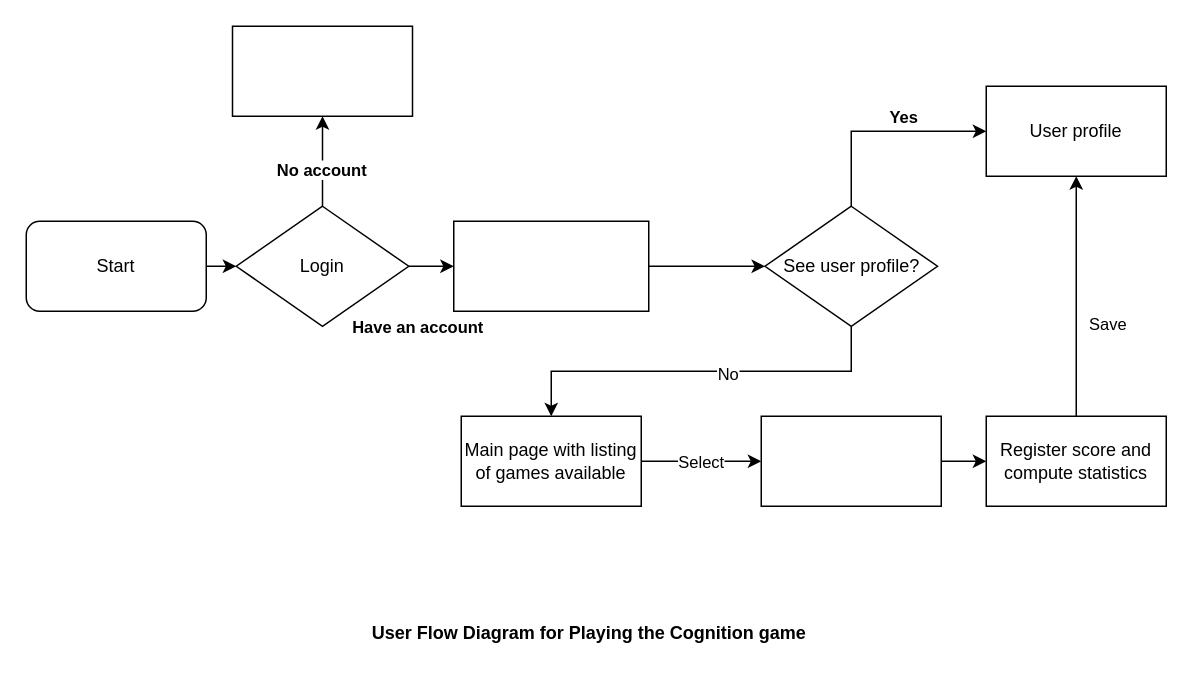
This 1193x683 diagram has some shape labels left out. Here are the shapes that lost their labels. From the top down, the box of each, then its label:
(231, 25, 412, 116): Sign up
(452, 220, 649, 311): Enter account credentials
(760, 415, 941, 506): Cognition game
